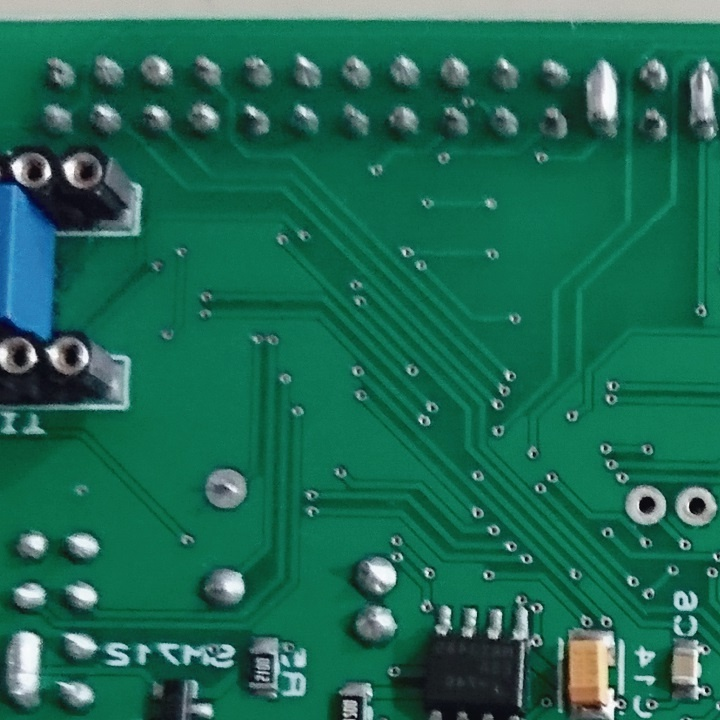F: (201, 466, 253, 517), (672, 482, 716, 532), (621, 481, 667, 526)
P: (1, 627, 47, 713), (580, 58, 624, 144), (683, 57, 720, 145)
